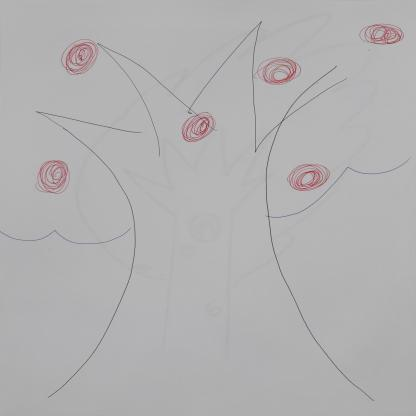apple: (53, 34, 101, 76), (254, 54, 303, 87), (29, 160, 71, 195), (356, 18, 403, 49), (289, 161, 331, 192), (180, 112, 218, 144)
branch_sharp: (35, 18, 350, 160)
crown_cloud: (6, 0, 414, 252)
trunk_reflex: (98, 246, 331, 350)
